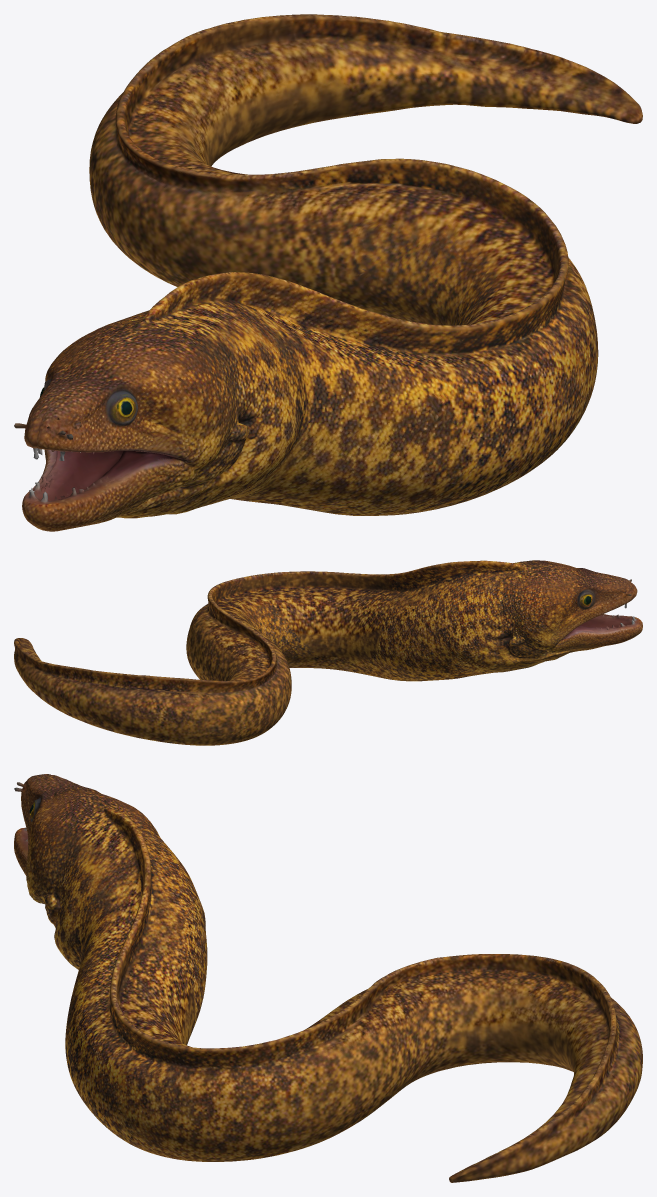
File: Moray.obj
The picture shows the model from 3 angles, top to bottom: view 1: azimuth 30°, elevation 25°; view 2: azimuth 150°, elevation 25°; view 3: azimuth 270°, elevation 25°; orthographic projection. The views are drawn at different scales.
Size of the model in its own units: 1 by 0.2888 by 0.817.
Materials: 1 (1 with a texture image).
